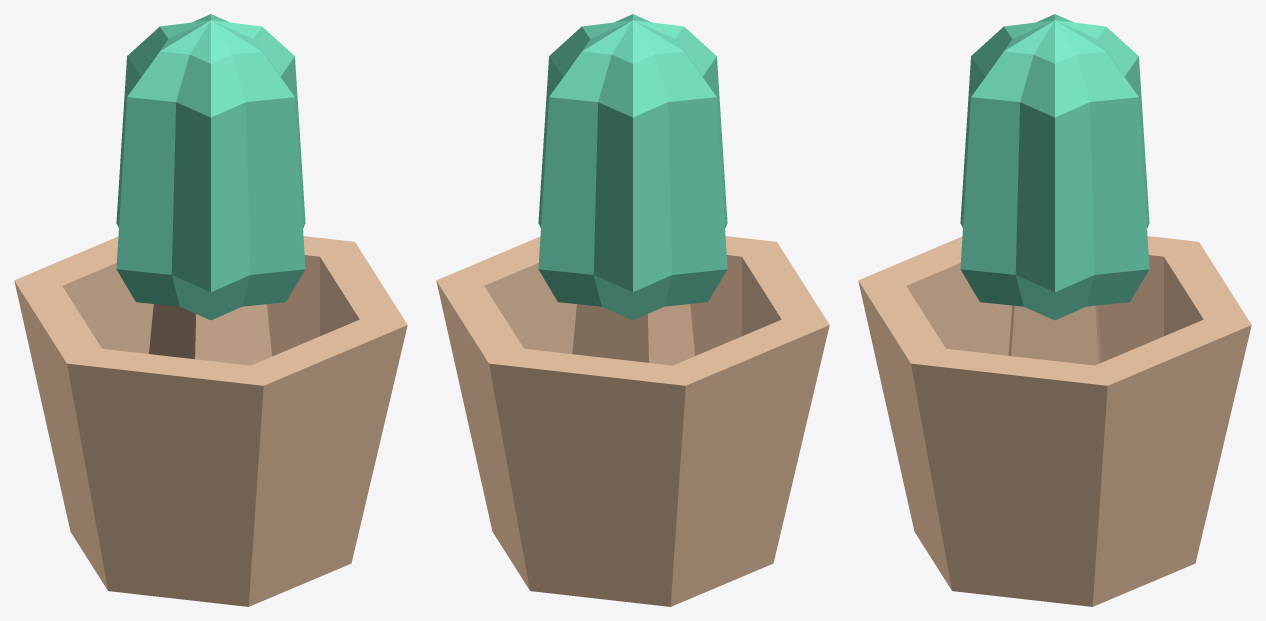
File: plant-small-2.glb
3 renders of one model, left to right at view 1: azimuth 30°, elevation 25°; view 2: azimuth 150°, elevation 25°; view 3: azimuth 270°, elevation 25°, orthographic.
Visible parts, largest first — view 1: Mesh0, Mesh1; view 2: Mesh0, Mesh1; view 3: Mesh0, Mesh1.
Boxes of the visible parts, box(x1,y1,x2,y2) form: Mesh0: box(14, 236, 407, 606); Mesh1: box(116, 14, 305, 320); Mesh0: box(436, 236, 829, 606); Mesh1: box(538, 14, 727, 320); Mesh0: box(858, 236, 1251, 606); Mesh1: box(960, 14, 1149, 320).
Size of the model in its own units: 0.0947 by 0.14 by 0.0947.
